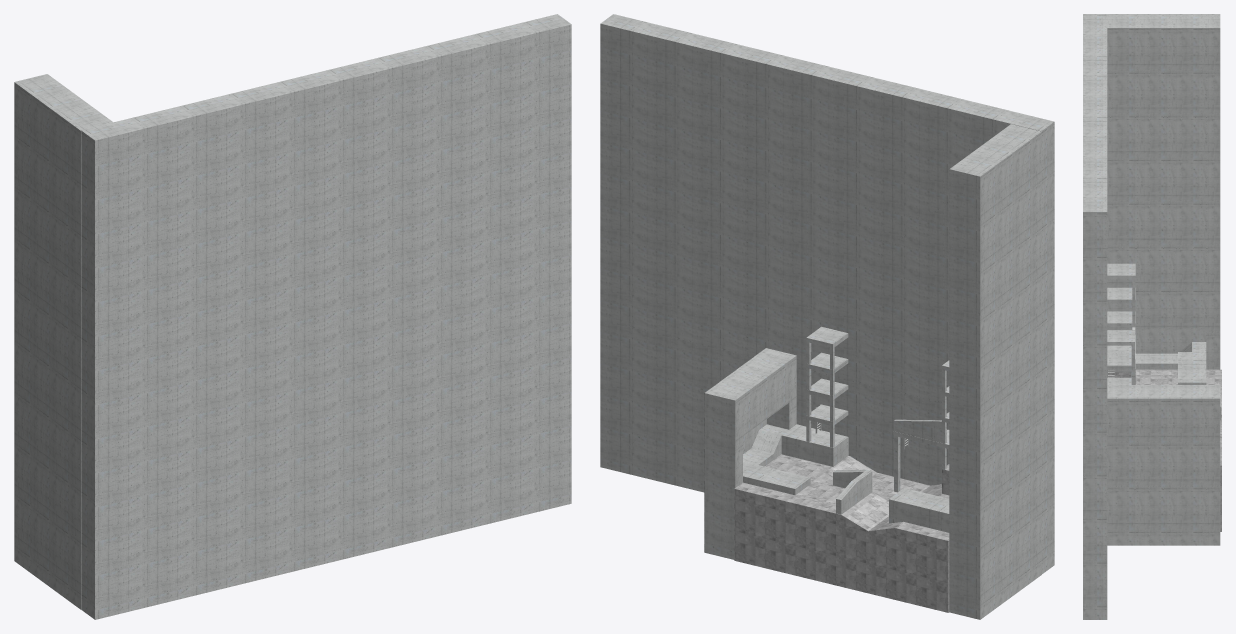
Rendered from SM_Highwall_00.fbx.
The picture shows the model from 3 angles, left to right: view 1: azimuth 30°, elevation 25°; view 2: azimuth 150°, elevation 25°; view 3: azimuth 270°, elevation 25°; orthographic projection. The views are drawn at different scales.
Visible parts, largest first — view 1: SM_Highwall_00; view 2: SM_Highwall_00; view 3: SM_Highwall_00.
Part boxes in pixels (left/top/right/bottom): SM_Highwall_00: left=14, top=14, right=571, bottom=619; SM_Highwall_00: left=600, top=14, right=1054, bottom=619; SM_Highwall_00: left=1083, top=14, right=1221, bottom=619.
Size of the model in its own units: 8249 by 7921 by 2442.
